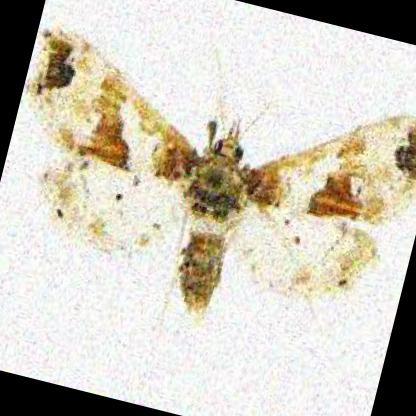leucinodes: (27, 30, 416, 328)
